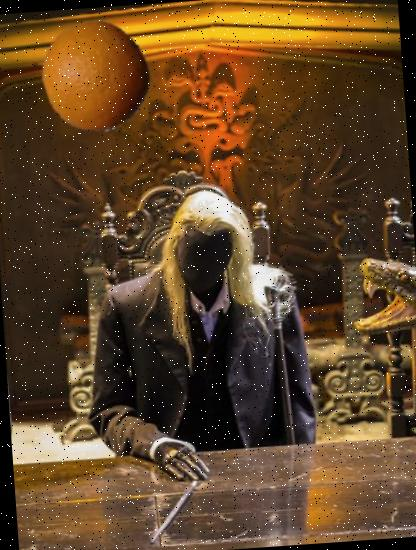Orange: (38, 17, 156, 135)
